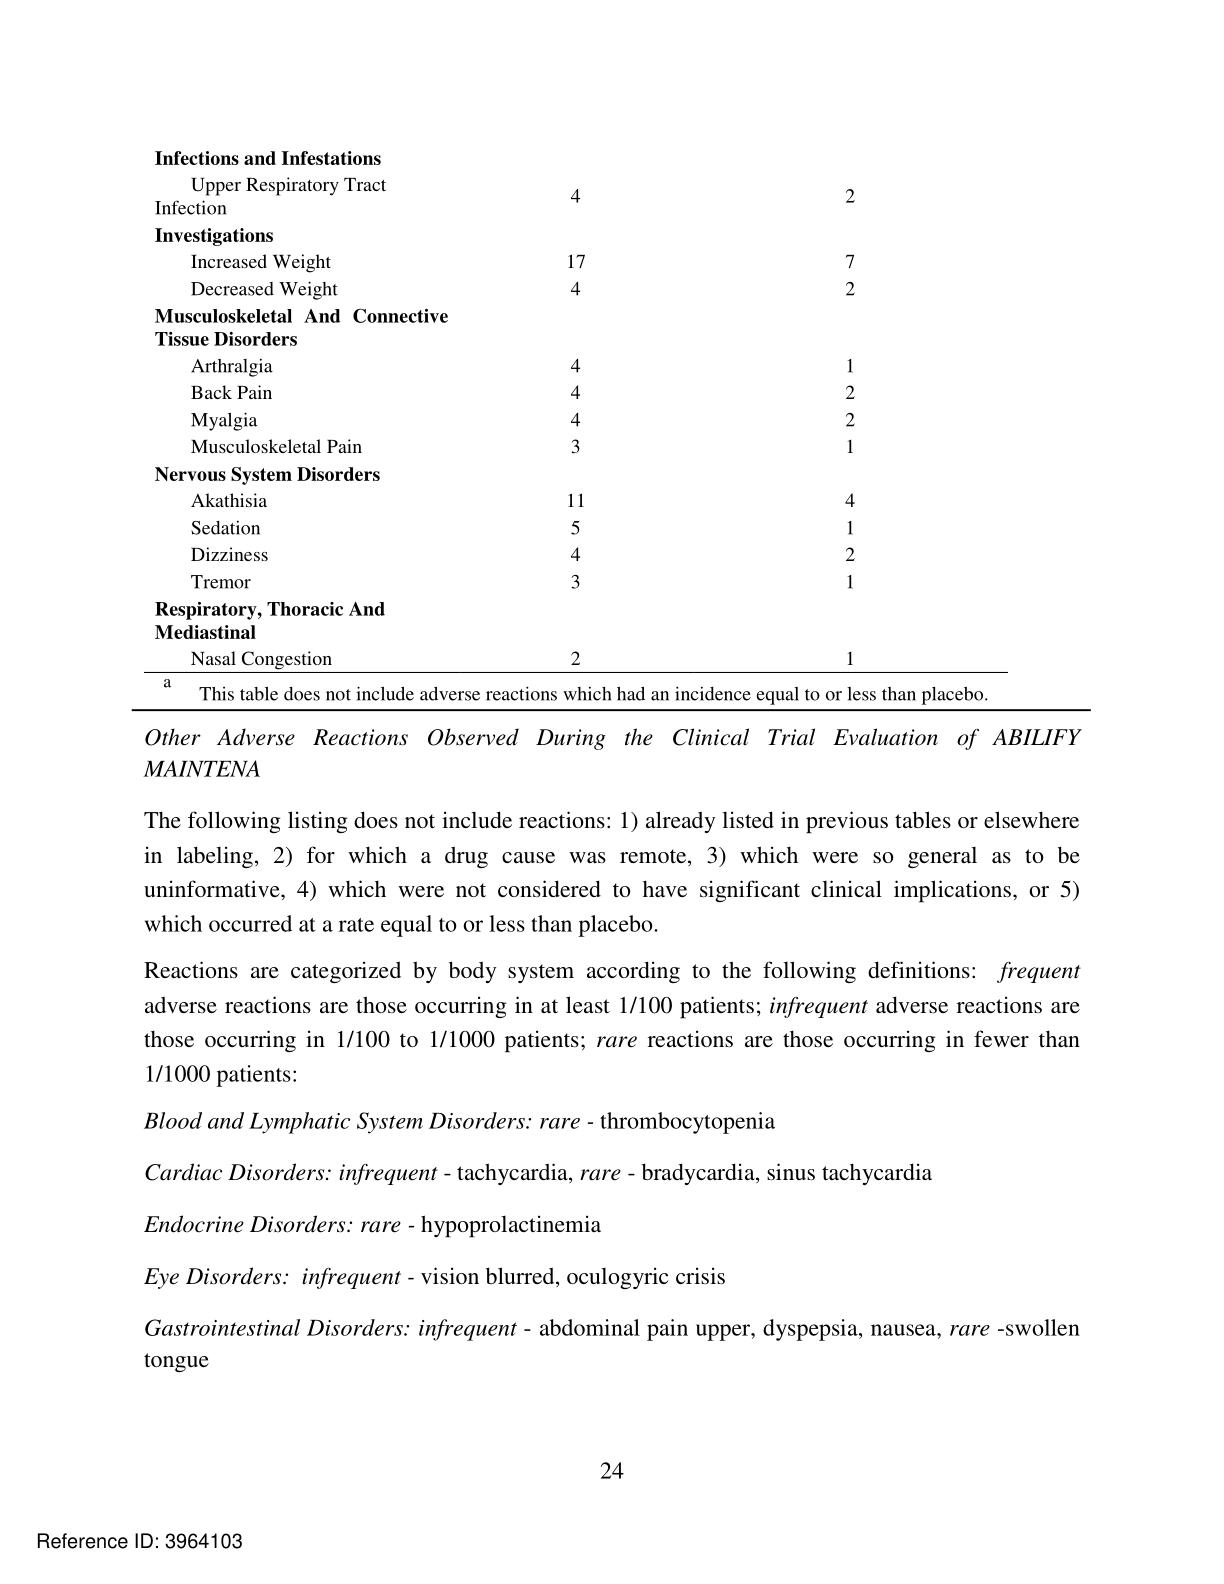nolines: (147, 147, 861, 669)
